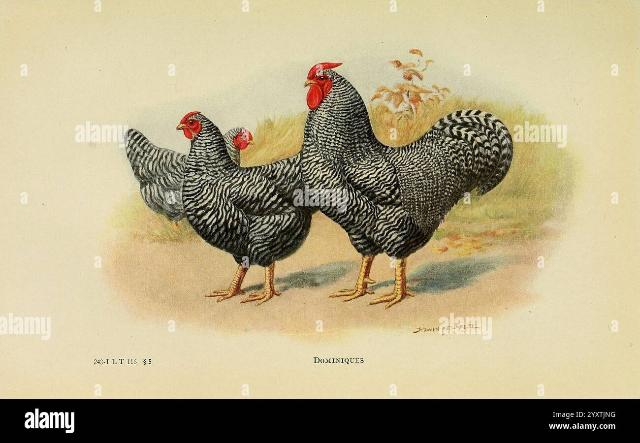Chicken: (301, 63, 513, 308), (175, 109, 314, 304), (121, 125, 255, 227)
